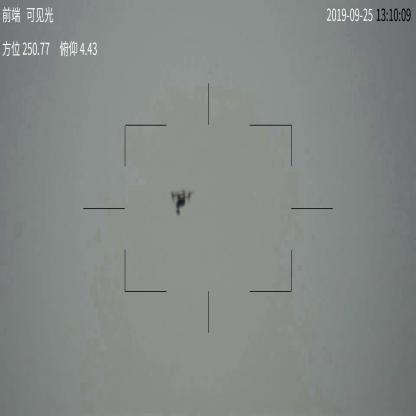uav: (170, 188, 195, 218)
